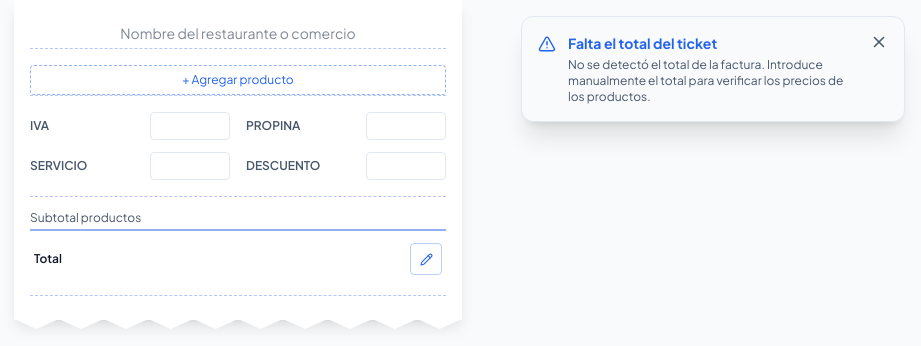
Scenario: ReceiptEditor › shows a toast when the receipt total is missing
This screenshot has width=921, height=346.
expect the message shows "No se detectó el total": met, box [568, 57, 843, 104]
Click the button named "cerrar aviso".
click(879, 42)  # box [866, 29, 892, 55]
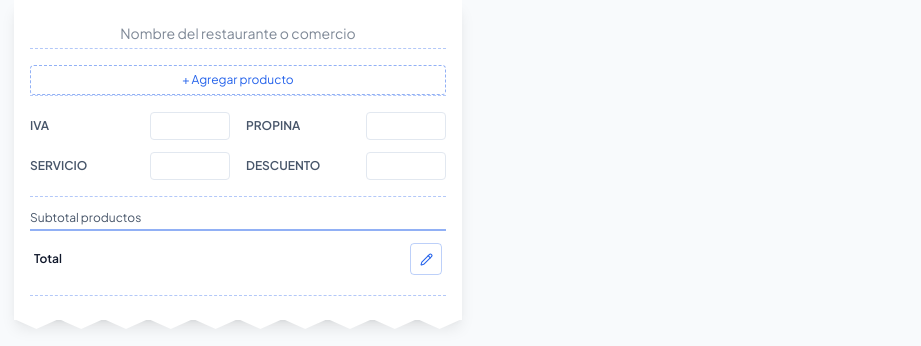
expect the message is gone: met
